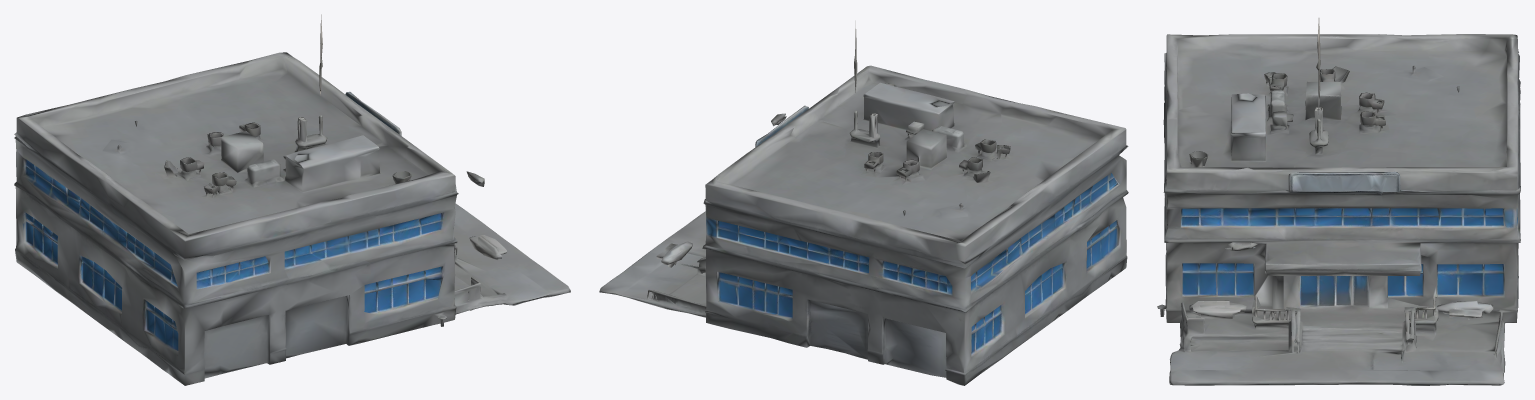
File: police_station.glb
3 views of the same model, side by side, from view 1: azimuth 30°, elevation 25°; view 2: azimuth 150°, elevation 25°; view 3: azimuth 270°, elevation 25° (orthographic). The views are drawn at different scales.
Parts seen in each view (by area): view 1: tripo_node_ac70a340-c657-4fe7-bb79-af6414cce35e; view 2: tripo_node_ac70a340-c657-4fe7-bb79-af6414cce35e; view 3: tripo_node_ac70a340-c657-4fe7-bb79-af6414cce35e.
Boxes of the visible parts, <box> form: tripo_node_ac70a340-c657-4fe7-bb79-af6414cce35e: <box>14,14,570,385</box>; tripo_node_ac70a340-c657-4fe7-bb79-af6414cce35e: <box>599,20,1128,385</box>; tripo_node_ac70a340-c657-4fe7-bb79-af6414cce35e: <box>1157,18,1520,385</box>.
Bounding box in the file's own units: 0.9995 × 0.6593 × 0.7726.
1 material, 1 textured.
